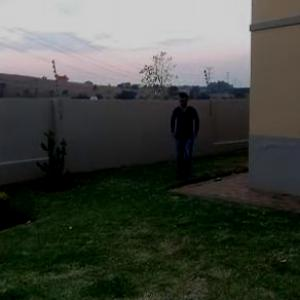follow: (169, 89, 202, 183)
